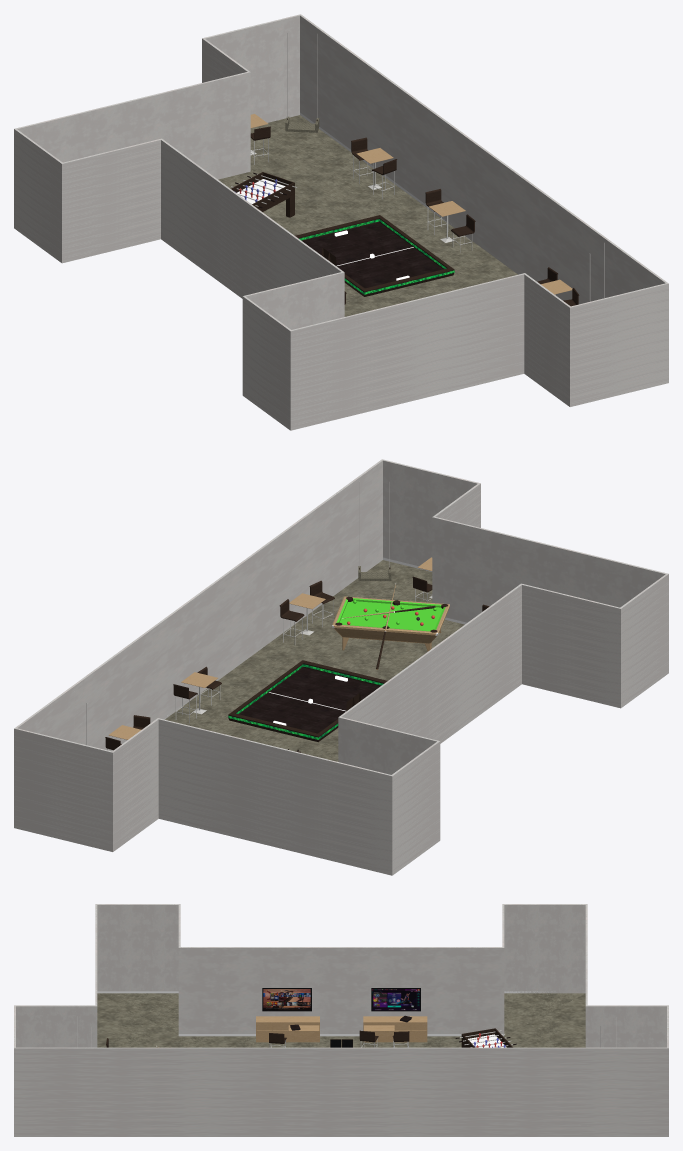
The picture shows the model from 3 angles, top to bottom: view 1: azimuth 30°, elevation 25°; view 2: azimuth 150°, elevation 25°; view 3: azimuth 270°, elevation 25°; orthographic projection. The views are drawn at different scales.
Visible parts, largest first — view 1: Room, Floor, Plane, Plane.003; view 2: Room, Floor, Plane, Cube.001; view 3: Room, Floor, Mjora, TV, TV.001, Plane.003, Baseboard.
Boxes of the visible parts, bbox=[...] form: Room: bbox=[14, 14, 668, 430]; Floor: bbox=[218, 115, 517, 316]; Plane: bbox=[295, 215, 454, 296]; Plane.003: bbox=[231, 172, 296, 217]; Room: bbox=[14, 459, 668, 875]; Floor: bbox=[165, 560, 464, 761]; Plane: bbox=[228, 660, 387, 742]; Cube.001: bbox=[332, 596, 449, 651]; Room: bbox=[14, 904, 668, 1136]; Floor: bbox=[97, 993, 585, 1047]; Mjora: bbox=[256, 1016, 427, 1042]; TV: bbox=[262, 988, 311, 1011]; TV.001: bbox=[371, 988, 420, 1011]; Plane.003: bbox=[455, 1028, 516, 1047]; Baseboard: bbox=[97, 991, 552, 1036].
Size of the model in its own units: 27.99 by 9.17 by 53.65.
Materials: 20 (12 with a texture image).
